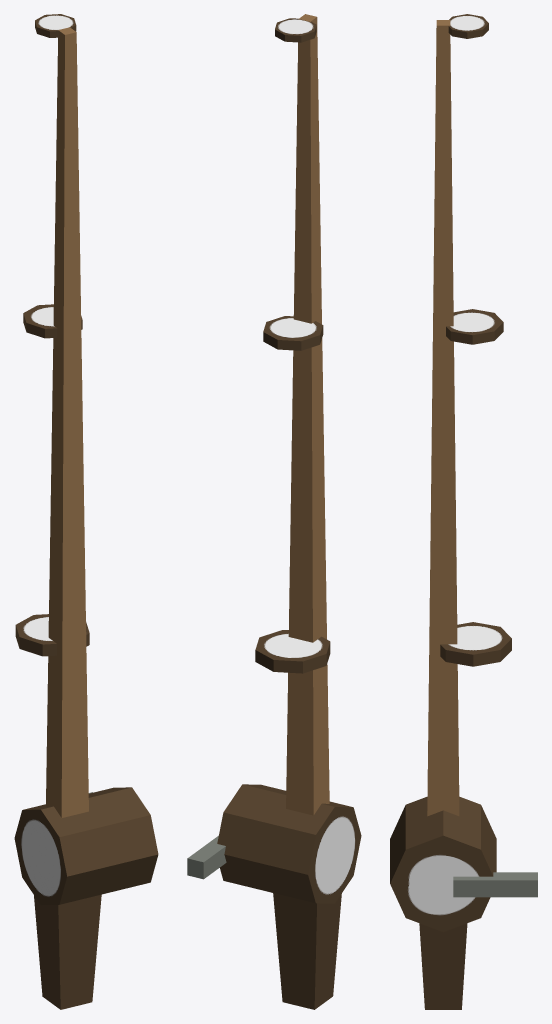
Rendered from fishing_pole.gltf.
3 renders of one model, left to right at view 1: azimuth 30°, elevation 25°; view 2: azimuth 150°, elevation 25°; view 3: azimuth 270°, elevation 25°, orthographic.
Parts seen in each view (by area): view 1: Pole, Reel, Cylinder.001, Cylinder.002, Cylinder.003; view 2: Pole, Reel, Cylinder.001, Cylinder.002, Lever, Cylinder.003; view 3: Pole, Reel, Cylinder.001, Lever, Cylinder.002, Cylinder.003.
Boxes of the visible parts, box(x1,y1,x2,y2) form: Pole: box(34, 27, 101, 1009); Reel: box(14, 787, 158, 905); Cylinder.001: box(15, 614, 89, 656); Cylinder.002: box(23, 304, 82, 338); Cylinder.003: box(35, 14, 76, 37); Pole: box(273, 14, 341, 1009); Reel: box(217, 784, 361, 903); Cylinder.001: box(255, 630, 330, 673); Cylinder.002: box(263, 316, 323, 350); Lever: box(187, 835, 226, 879); Cylinder.003: box(275, 18, 316, 42); Pole: box(419, 20, 467, 1009); Reel: box(390, 796, 496, 931); Cylinder.001: box(440, 622, 511, 666); Lever: box(453, 872, 537, 897); Cylinder.002: box(446, 309, 503, 344); Cylinder.003: box(448, 14, 488, 38).
Bounding box in the file's own units: 0.2305 × 2.03 × 0.2773.
Materials: 1 (1 with a texture image).
